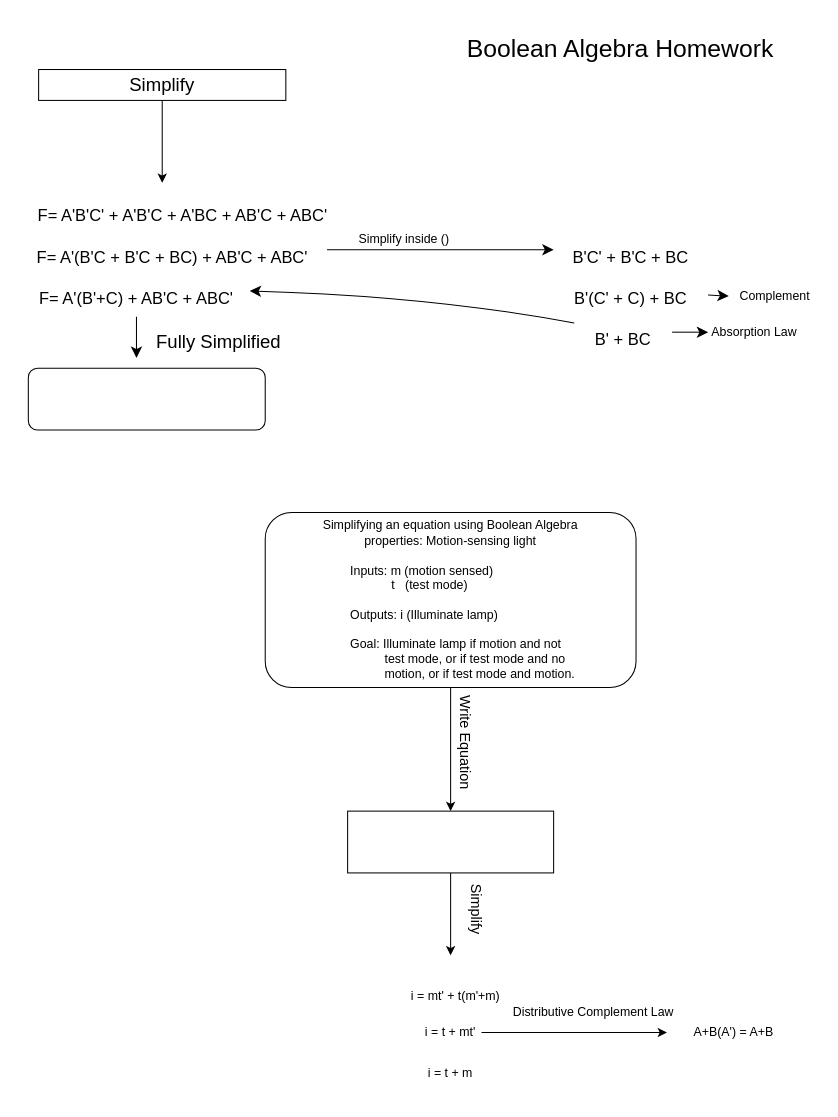
Image size: 838x1117. Some labels were removed from this diagram. The shapes that lost their labels are listed below. From the top down, each one's centre as x and y in pixels, then its label:
pixel 146 398: F= A'B' + A'C + AB'C + ABC'
pixel 450 841: i = mt' + tm' + tm
